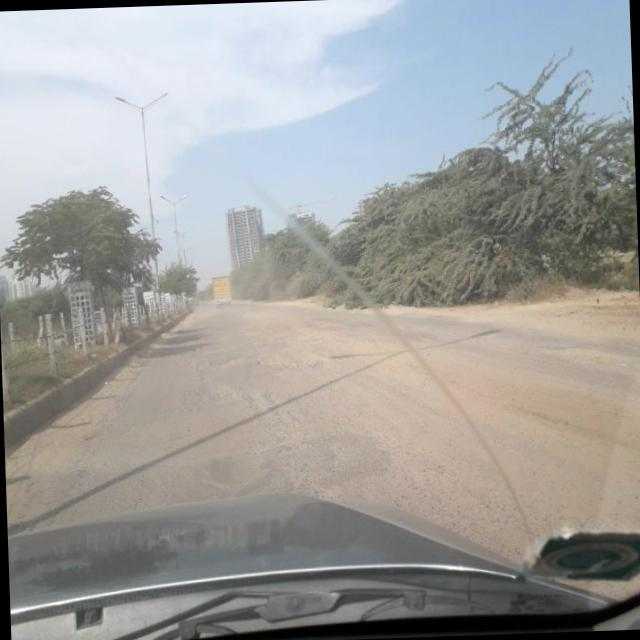pothole: (184, 448, 310, 490), (250, 323, 331, 384), (523, 332, 640, 374), (174, 380, 243, 412), (216, 352, 244, 370)
